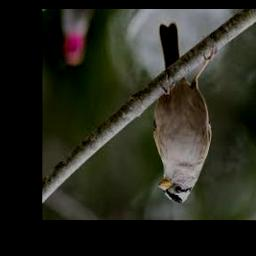Sparrow: (152, 24, 217, 203)
